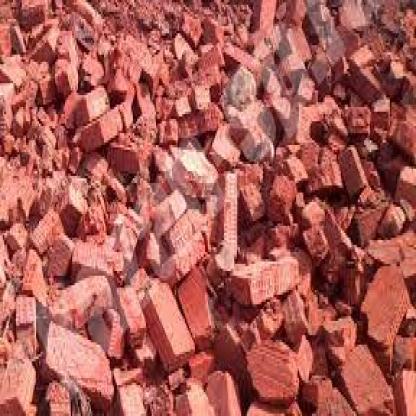brick: (1, 1, 413, 414)
